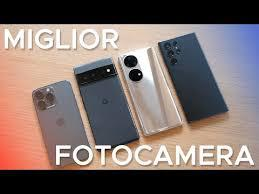Smartphone: (157, 40, 227, 133), (119, 50, 183, 145), (71, 65, 131, 153), (35, 88, 91, 174)
